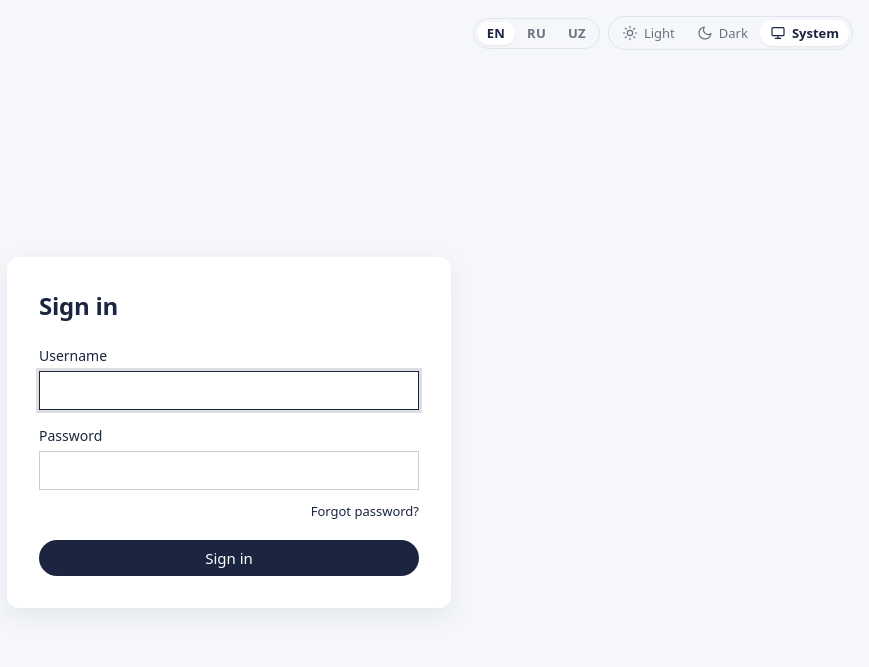
Test: LoginPage — error surfacing › shows a clear rate-limit message on 429 (not the generic credential error)
Step 1. Type "operator" into the field labelled "Username" → (229, 390), box [39, 370, 419, 410]
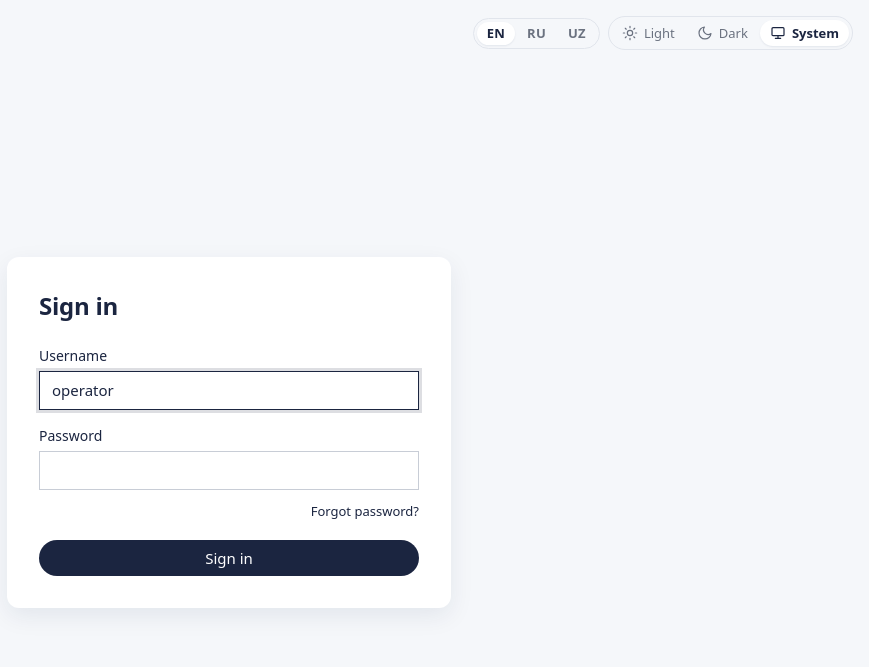
Step 2. Type "secret" into the password field labelled "Password" → (229, 470), box [39, 450, 419, 490]
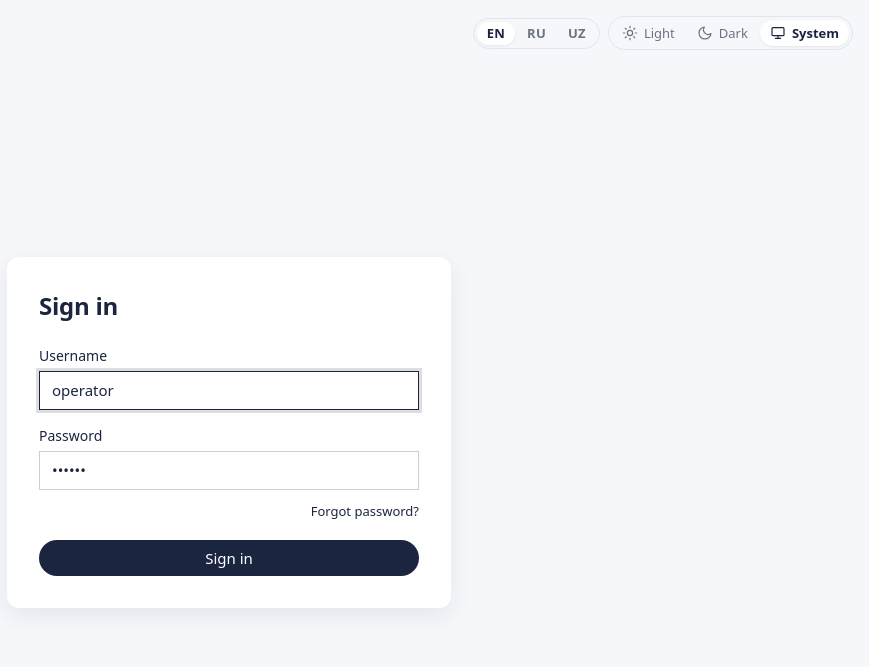
Step 3. Click the button "Sign in" → (229, 558), box [39, 540, 419, 576]
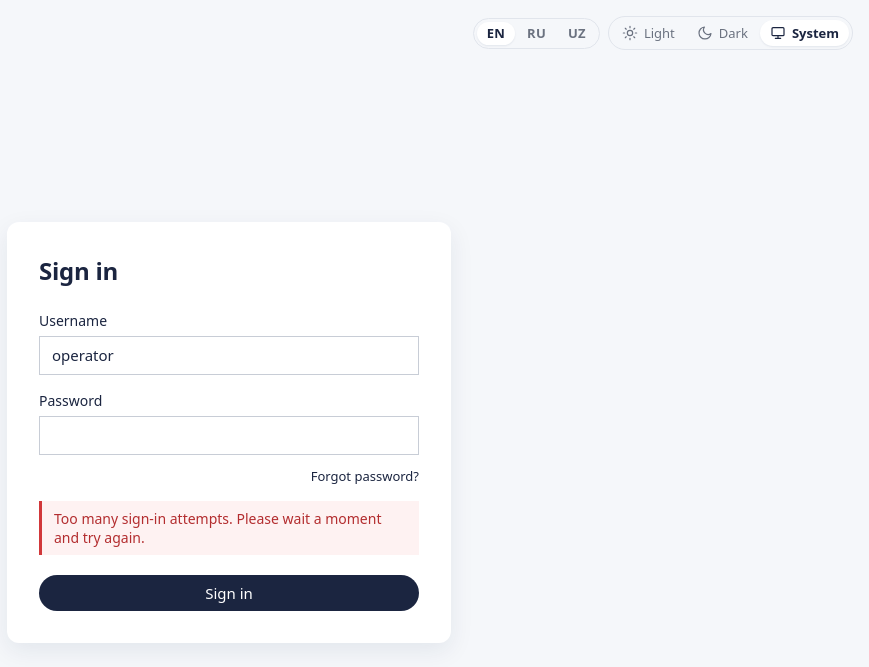
Result: the text "Too many sign-in attempts. Please wait a moment and try again." is shown at [39, 500, 419, 554]
